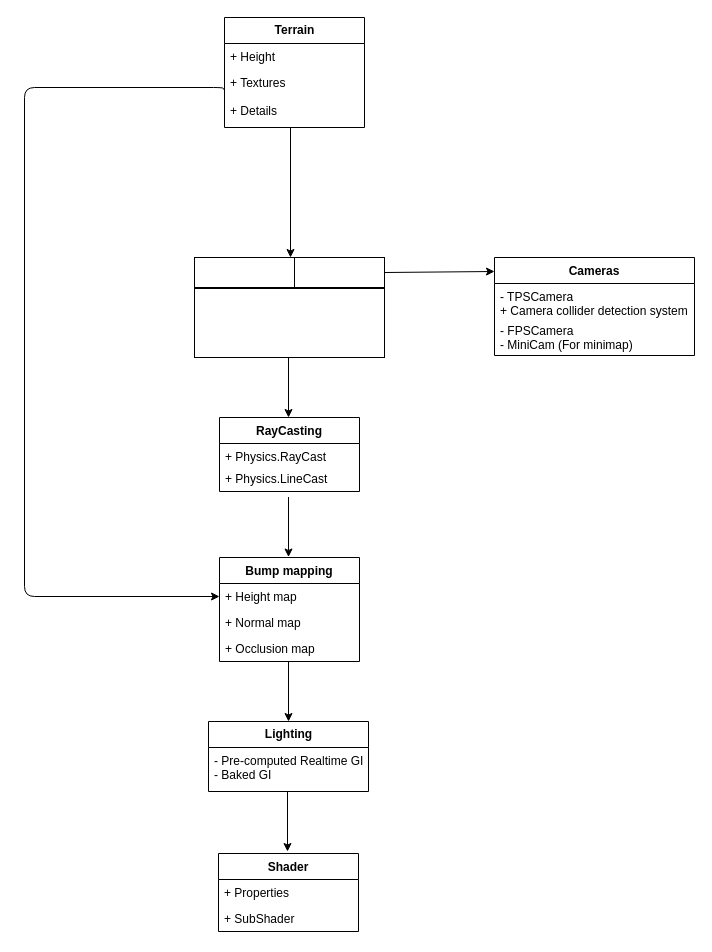
This 712x952 diagram has some shape labels left out. The shapes that lost their labels are listed below. From the top down, each one's centre as x and y in pixels, then its label:
At [244,272]: "Objects, Prefabs".
At [339,272]: "Player".
At [289,323]: "+ CharacterController (for Player) + RigidBody + Colliders + Material".
